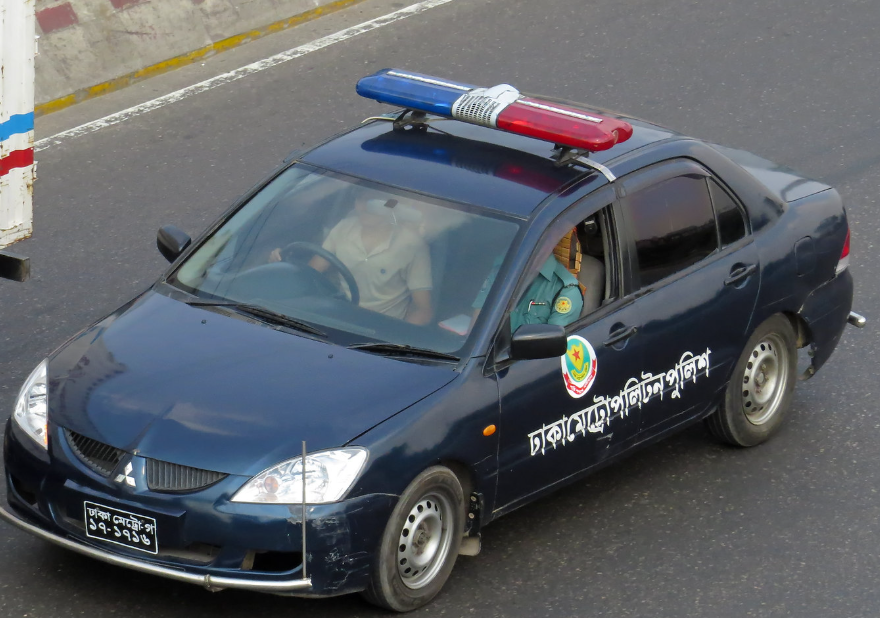Police cars: (0, 51, 864, 615)
